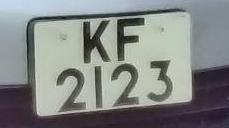1: (86, 64, 112, 112)
2: (50, 63, 93, 115), (107, 61, 146, 108)
3: (142, 57, 180, 106)
F: (112, 17, 150, 62)
K: (77, 18, 117, 68)
